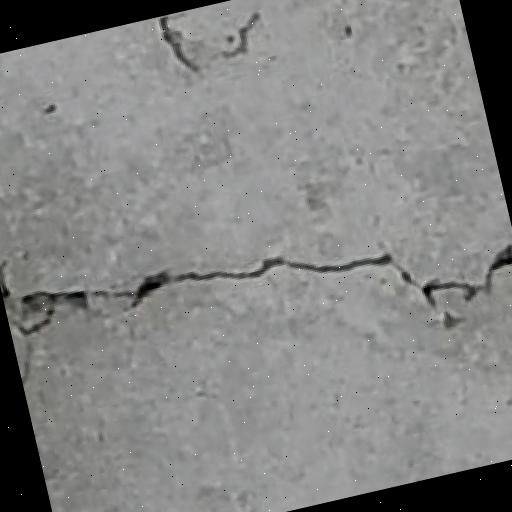spalling: (21, 223, 512, 395)
